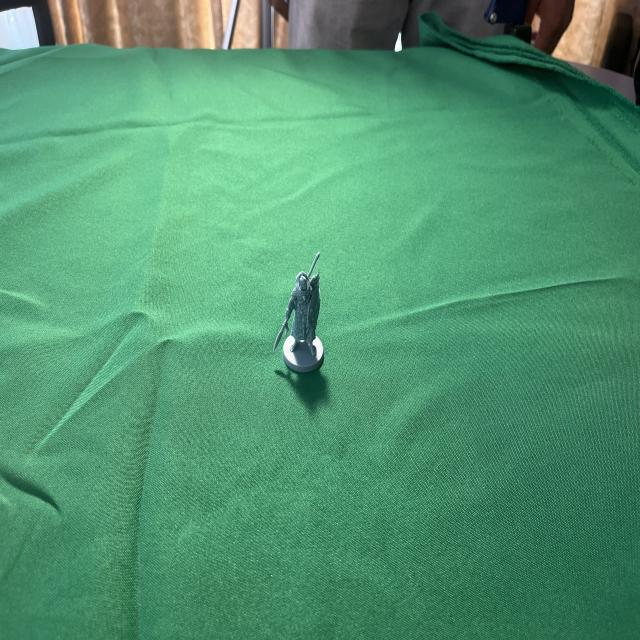isis_follower: (272, 247, 330, 381)
